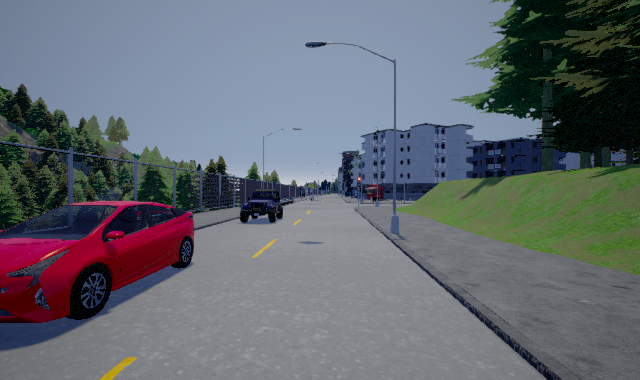vehicle: (1, 201, 194, 323), (240, 189, 283, 223)
